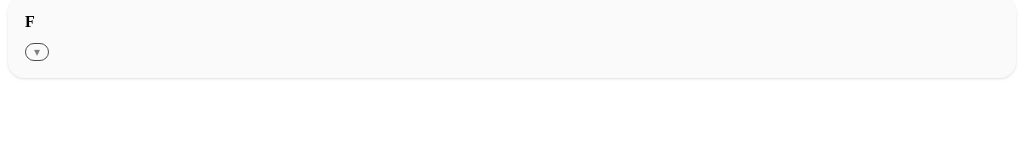
Test: MaskedCards — expansão › rótulos customizados via expandLabel/collapseLabel
Click the button named "Ver detalhes".
click(37, 52)  # box [25,43,49,61]
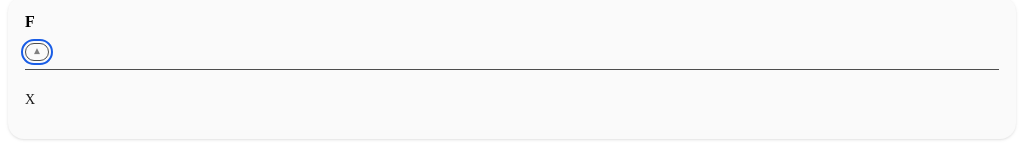
Result: the button named "Ocultar" is shown at [25,43,49,61]
